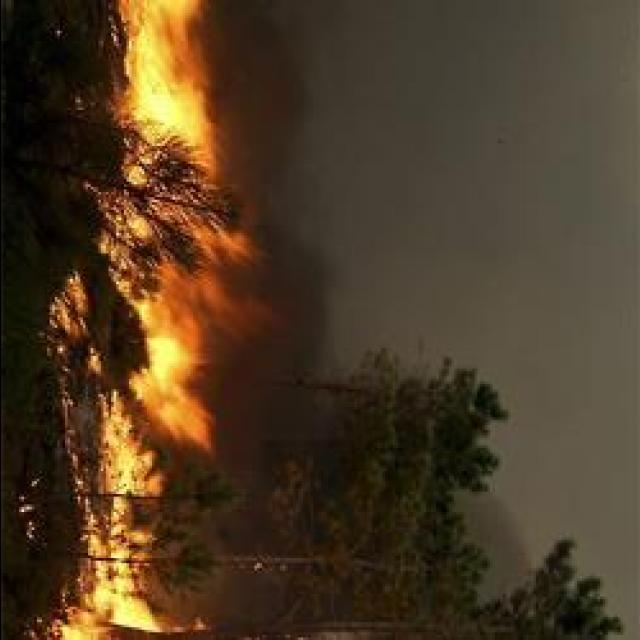fire: (126, 1, 202, 143), (140, 311, 202, 445), (116, 596, 150, 626)
smoke: (178, 270, 270, 358), (198, 224, 256, 272), (484, 507, 522, 558)
